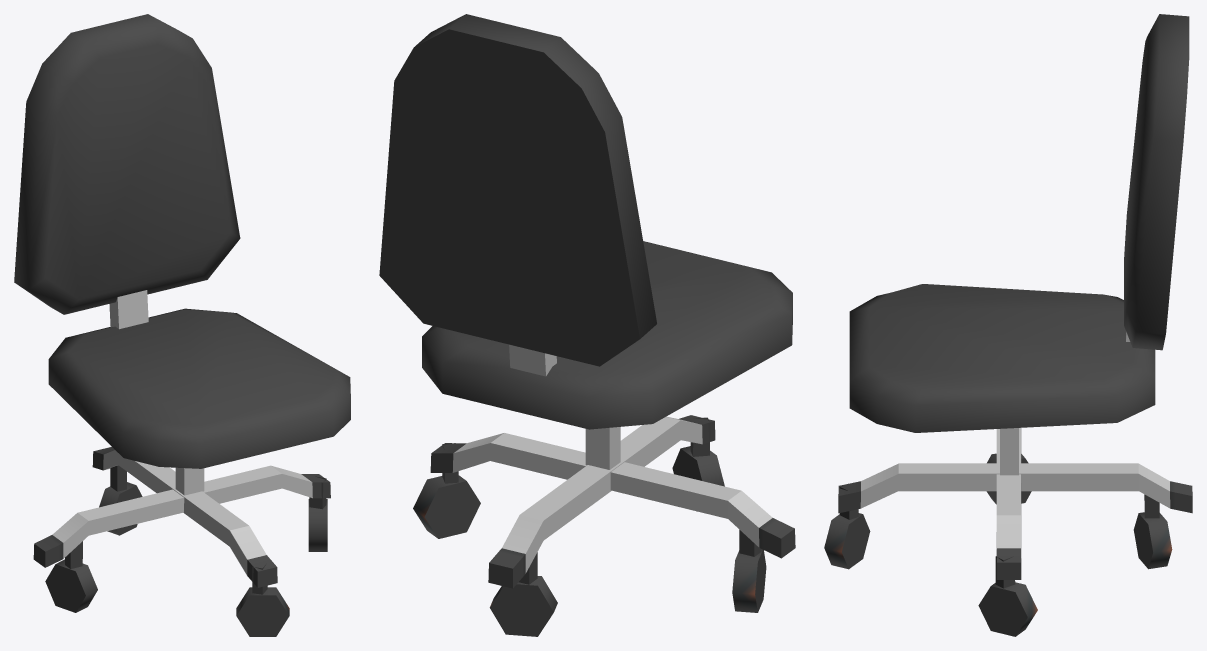
File: SM_Chairs_04.fbx
The picture shows the model from 3 angles, left to right: view 1: azimuth 30°, elevation 25°; view 2: azimuth 150°, elevation 25°; view 3: azimuth 270°, elevation 25°; orthographic projection. The views are drawn at different scales.
Visible parts, largest first — view 1: SM_Chairs_04; view 2: SM_Chairs_04; view 3: SM_Chairs_04.
Boxes of the visible parts, bbox=[...] form: SM_Chairs_04: bbox=[14, 14, 350, 636]; SM_Chairs_04: bbox=[379, 14, 795, 636]; SM_Chairs_04: bbox=[824, 14, 1192, 636].
Bounding box in the file's own units: 87.09 × 138 × 87.09.
